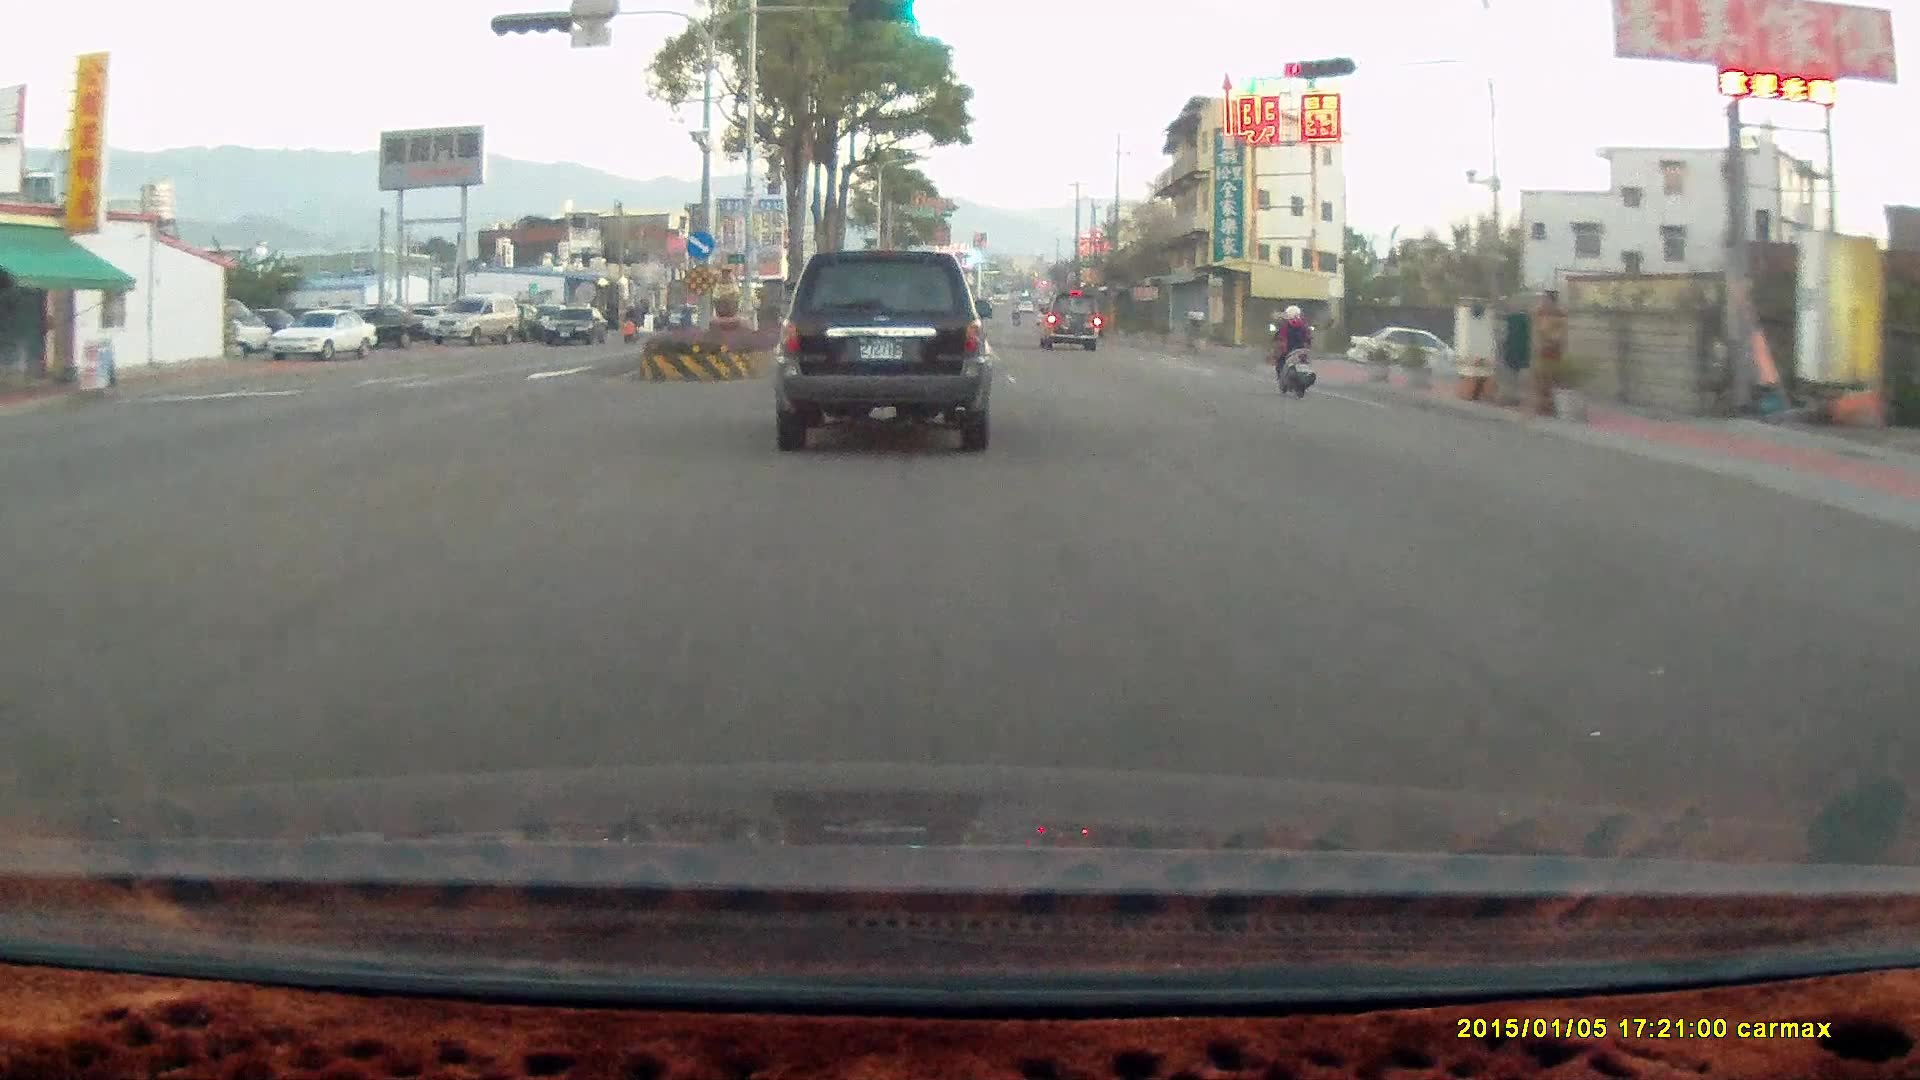rider: (1262, 297, 1325, 403), (1264, 300, 1312, 396)
vehicle: (782, 255, 1003, 460), (773, 250, 993, 451), (1344, 325, 1464, 378), (274, 309, 382, 365), (269, 307, 376, 363), (1352, 327, 1453, 377), (428, 295, 522, 348), (427, 293, 521, 345), (333, 306, 421, 349), (1043, 294, 1101, 358), (1036, 291, 1099, 350), (545, 306, 609, 345), (547, 308, 611, 348)
